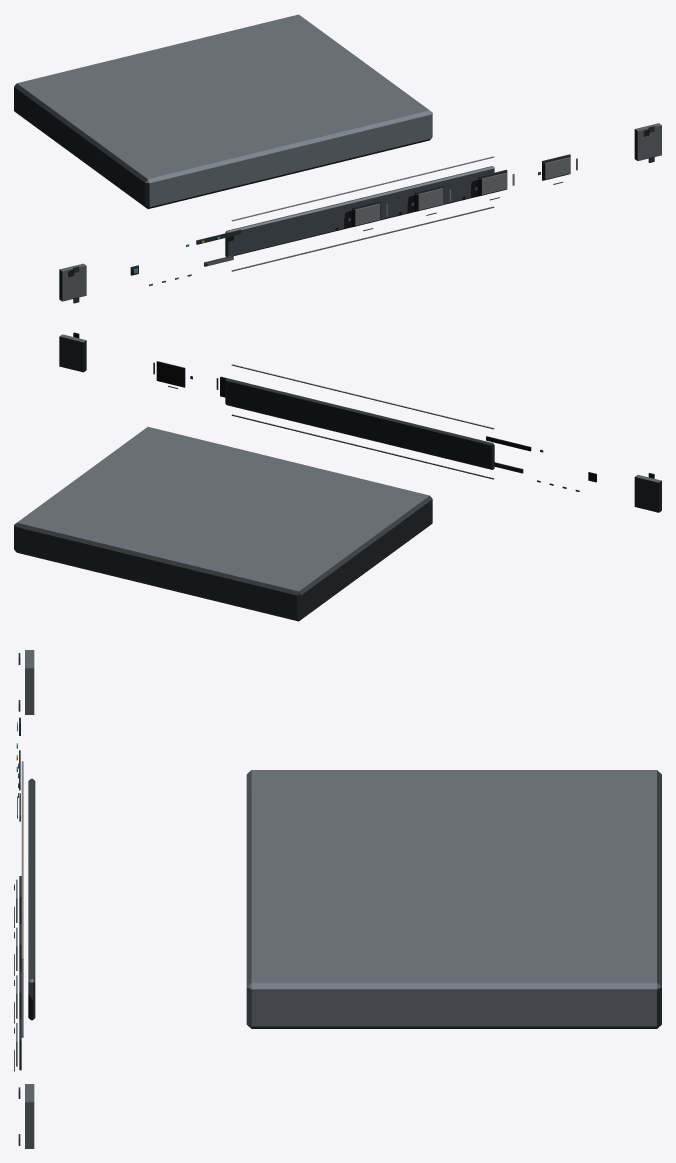
The model's file is 0-20261016-1900-ev044-r08-floor5-serverface1u_baked.glb.
The picture shows the model from 3 angles, top to bottom: view 1: azimuth 30°, elevation 25°; view 2: azimuth 150°, elevation 25°; view 3: azimuth 270°, elevation 25°; orthographic projection. The views are drawn at different scales.
Parts seen in each view (by area): view 1: SW_Ops_ServerFace1U; view 2: SW_Ops_ServerFace1U; view 3: SW_Ops_ServerFace1U.
Part boxes in pixels (bbox=[...]): SW_Ops_ServerFace1U: bbox=[14, 14, 661, 303]; SW_Ops_ServerFace1U: bbox=[14, 332, 661, 621]; SW_Ops_ServerFace1U: bbox=[14, 650, 661, 1148].
Size of the model in its own units: 0.4637 by 0.0377 by 0.2808.
1 material, 1 textured.
